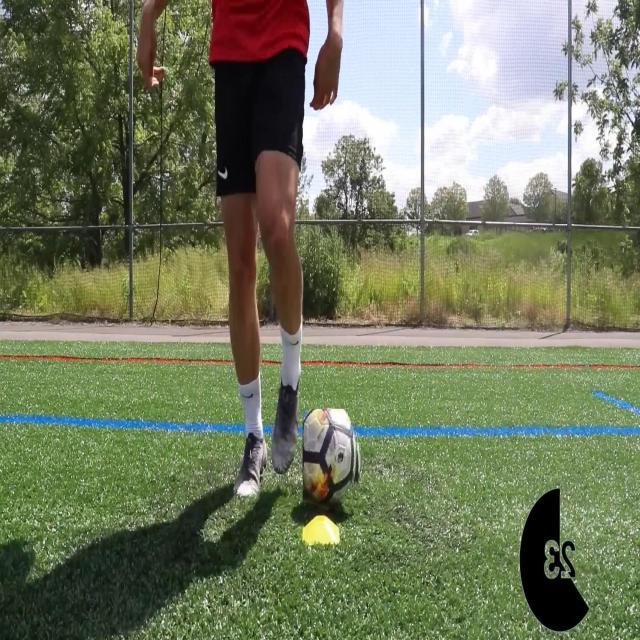ball: (302, 409, 360, 514)
